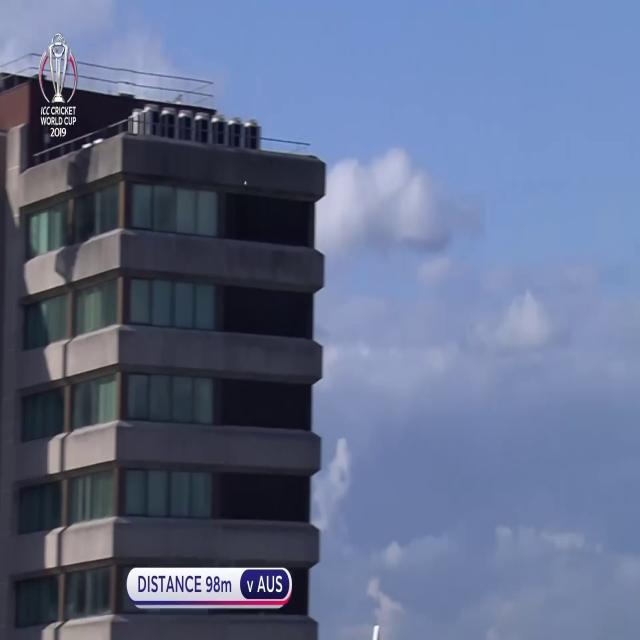ball: (243, 178, 249, 188)
